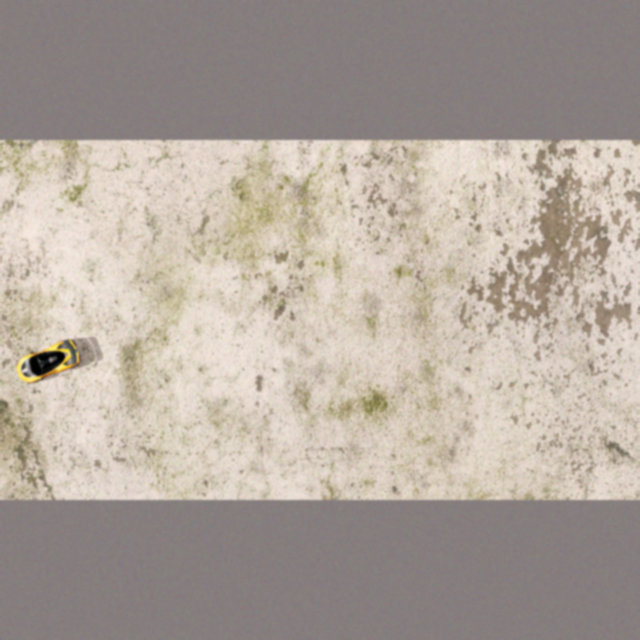car: (6, 336, 87, 389)
